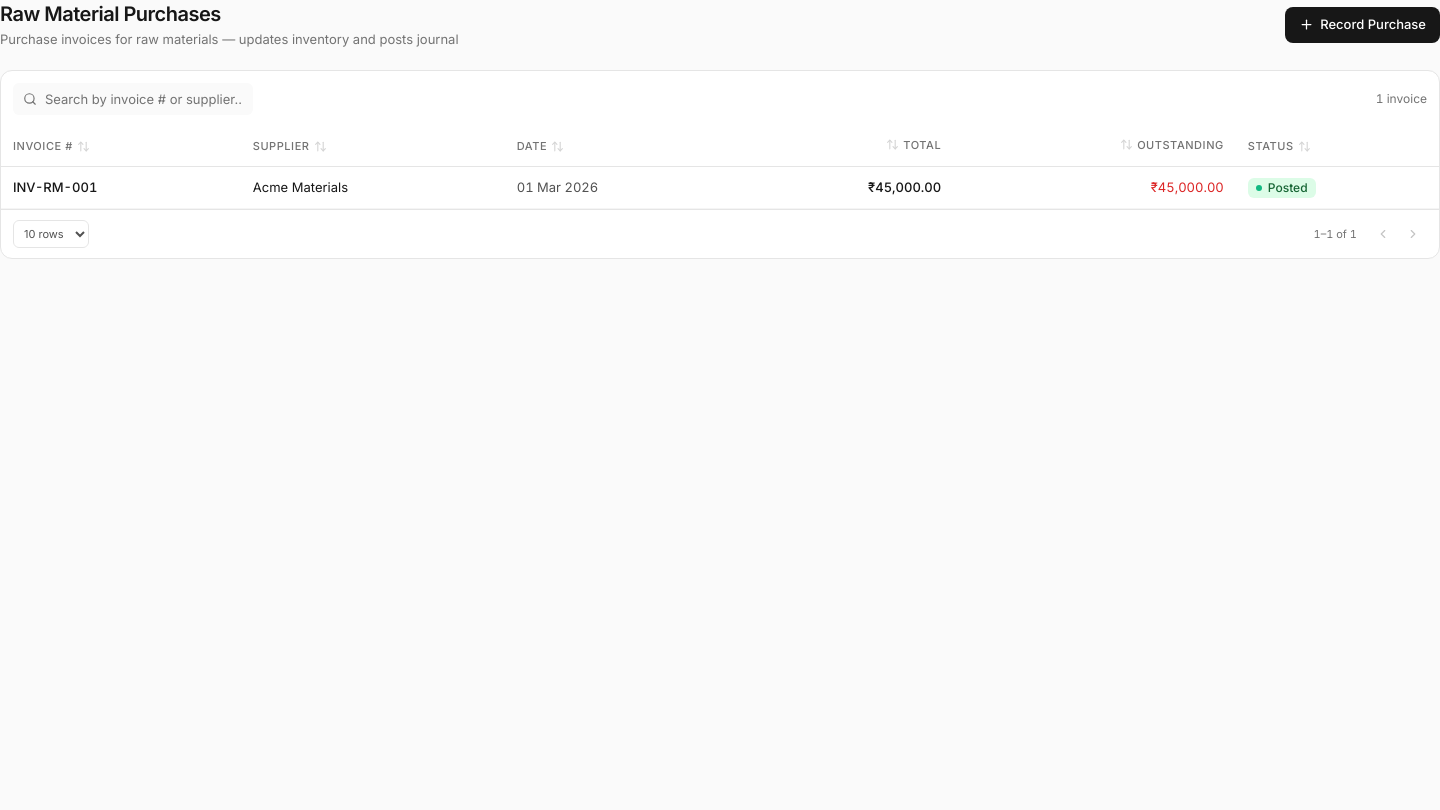
it: RawMaterialPurchasesPage › shows outstanding amount in purchase detail modal
Note: Click the row to open detail modal
Click the text "INV-RM-001": (55, 186) [13, 178, 97, 194]
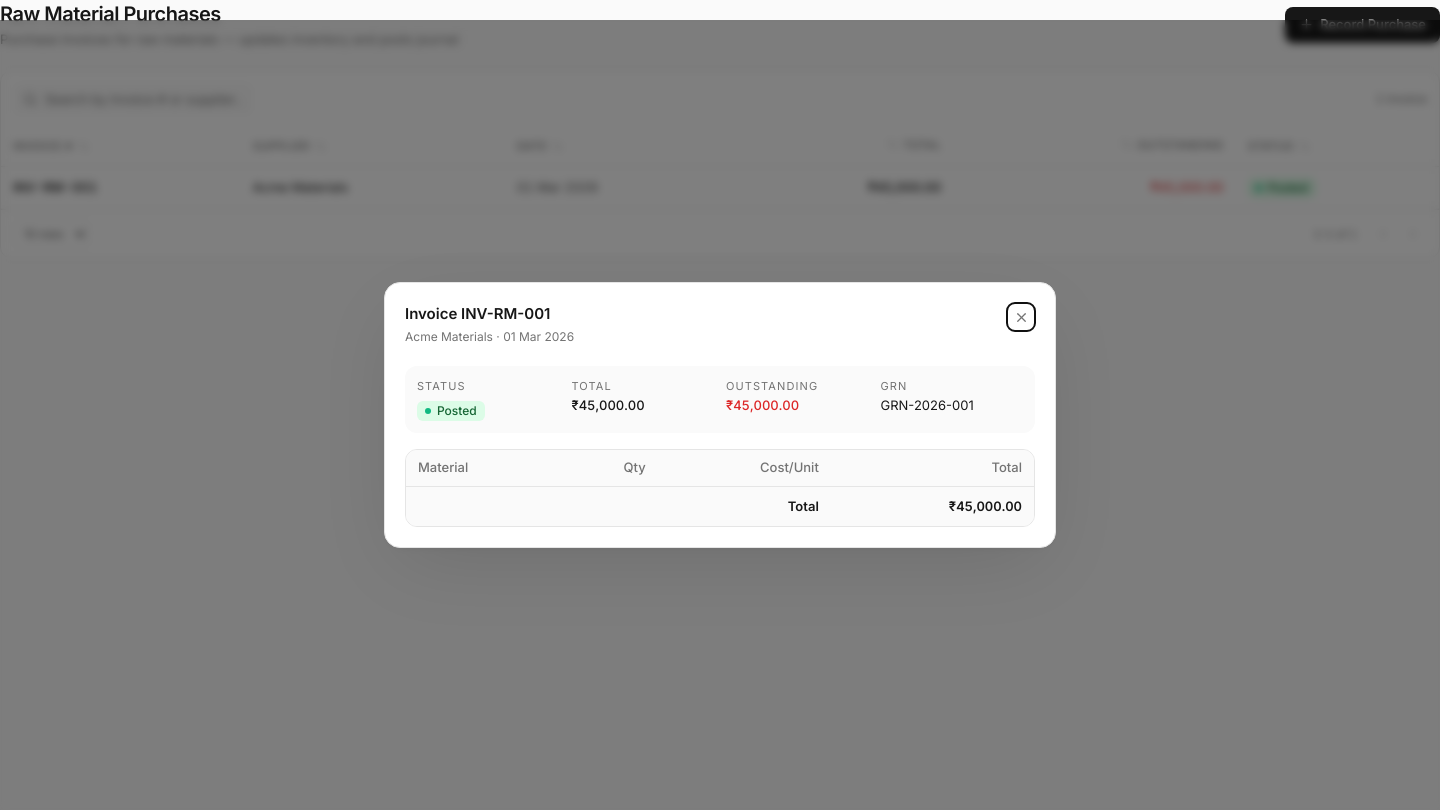
Result: the heading "Invoice INV-RM-001" is shown at [405, 303, 574, 326]
